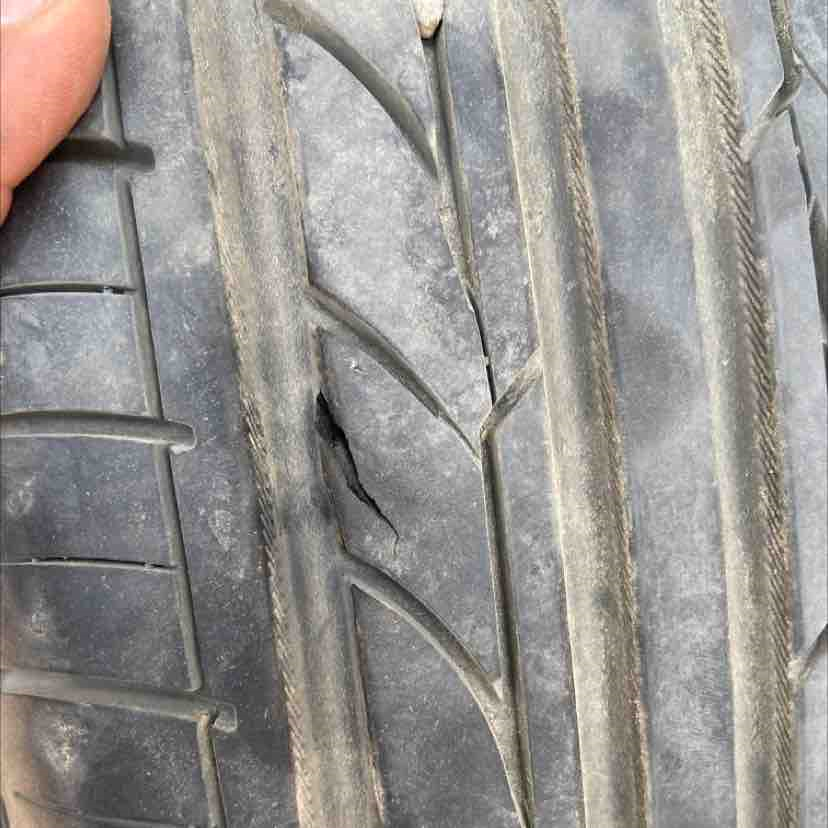tr: (311, 384, 410, 558)
